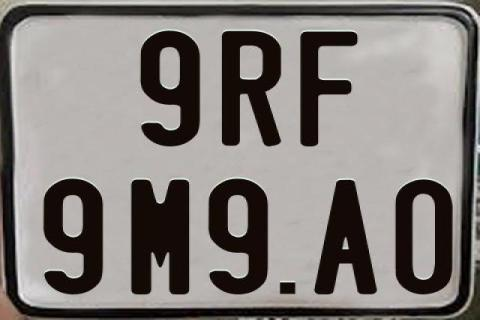0: (137, 29, 201, 147), (207, 176, 271, 292), (395, 178, 456, 298), (44, 178, 106, 296)
A: (311, 180, 377, 294)
F: (298, 31, 362, 151)
M: (128, 179, 188, 299)
R: (222, 29, 281, 149)
